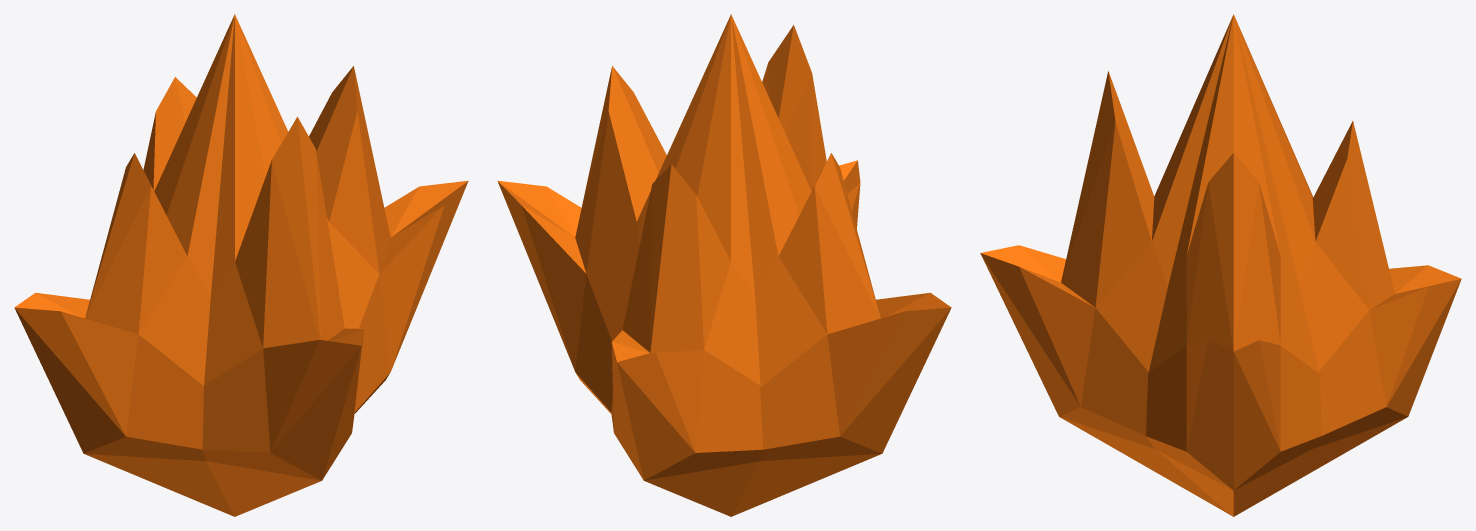
The model's file is Fire.fbx.
The picture shows the model from 3 angles, left to right: view 1: azimuth 30°, elevation 25°; view 2: azimuth 150°, elevation 25°; view 3: azimuth 270°, elevation 25°; orthographic projection.
Visible parts, largest first — view 1: Fire; view 2: Fire; view 3: Fire.
Part boxes in pixels (<box>): Fire: <box>14,14,468,516</box>; Fire: <box>497,14,951,516</box>; Fire: <box>980,14,1461,516</box>.
Size of the model in its own units: 2.17 by 2.29 by 1.99.
